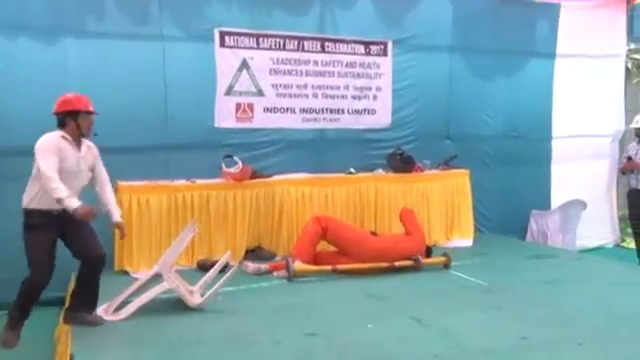helmet: (51, 92, 100, 118), (629, 111, 640, 129)
helmet_on: (50, 92, 100, 143), (628, 111, 640, 144)
person: (1, 91, 126, 351), (245, 208, 432, 279), (617, 110, 640, 276)
